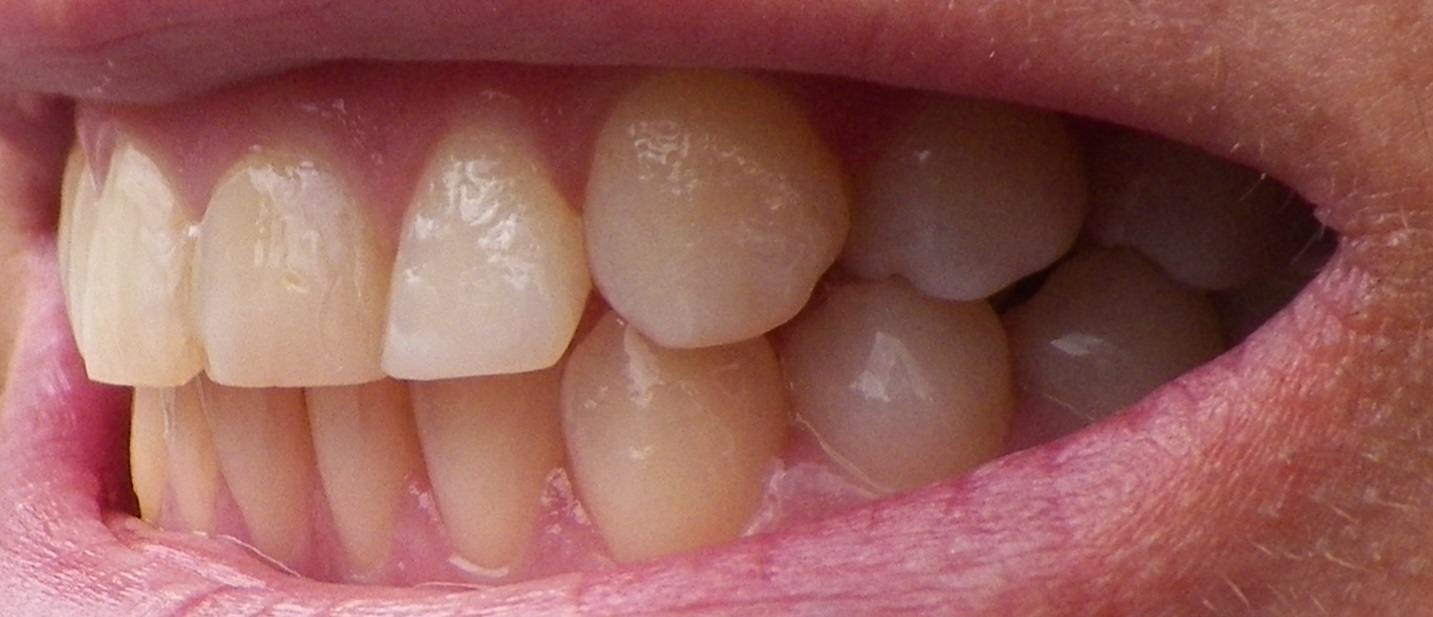boca: (48, 82, 1290, 560)
